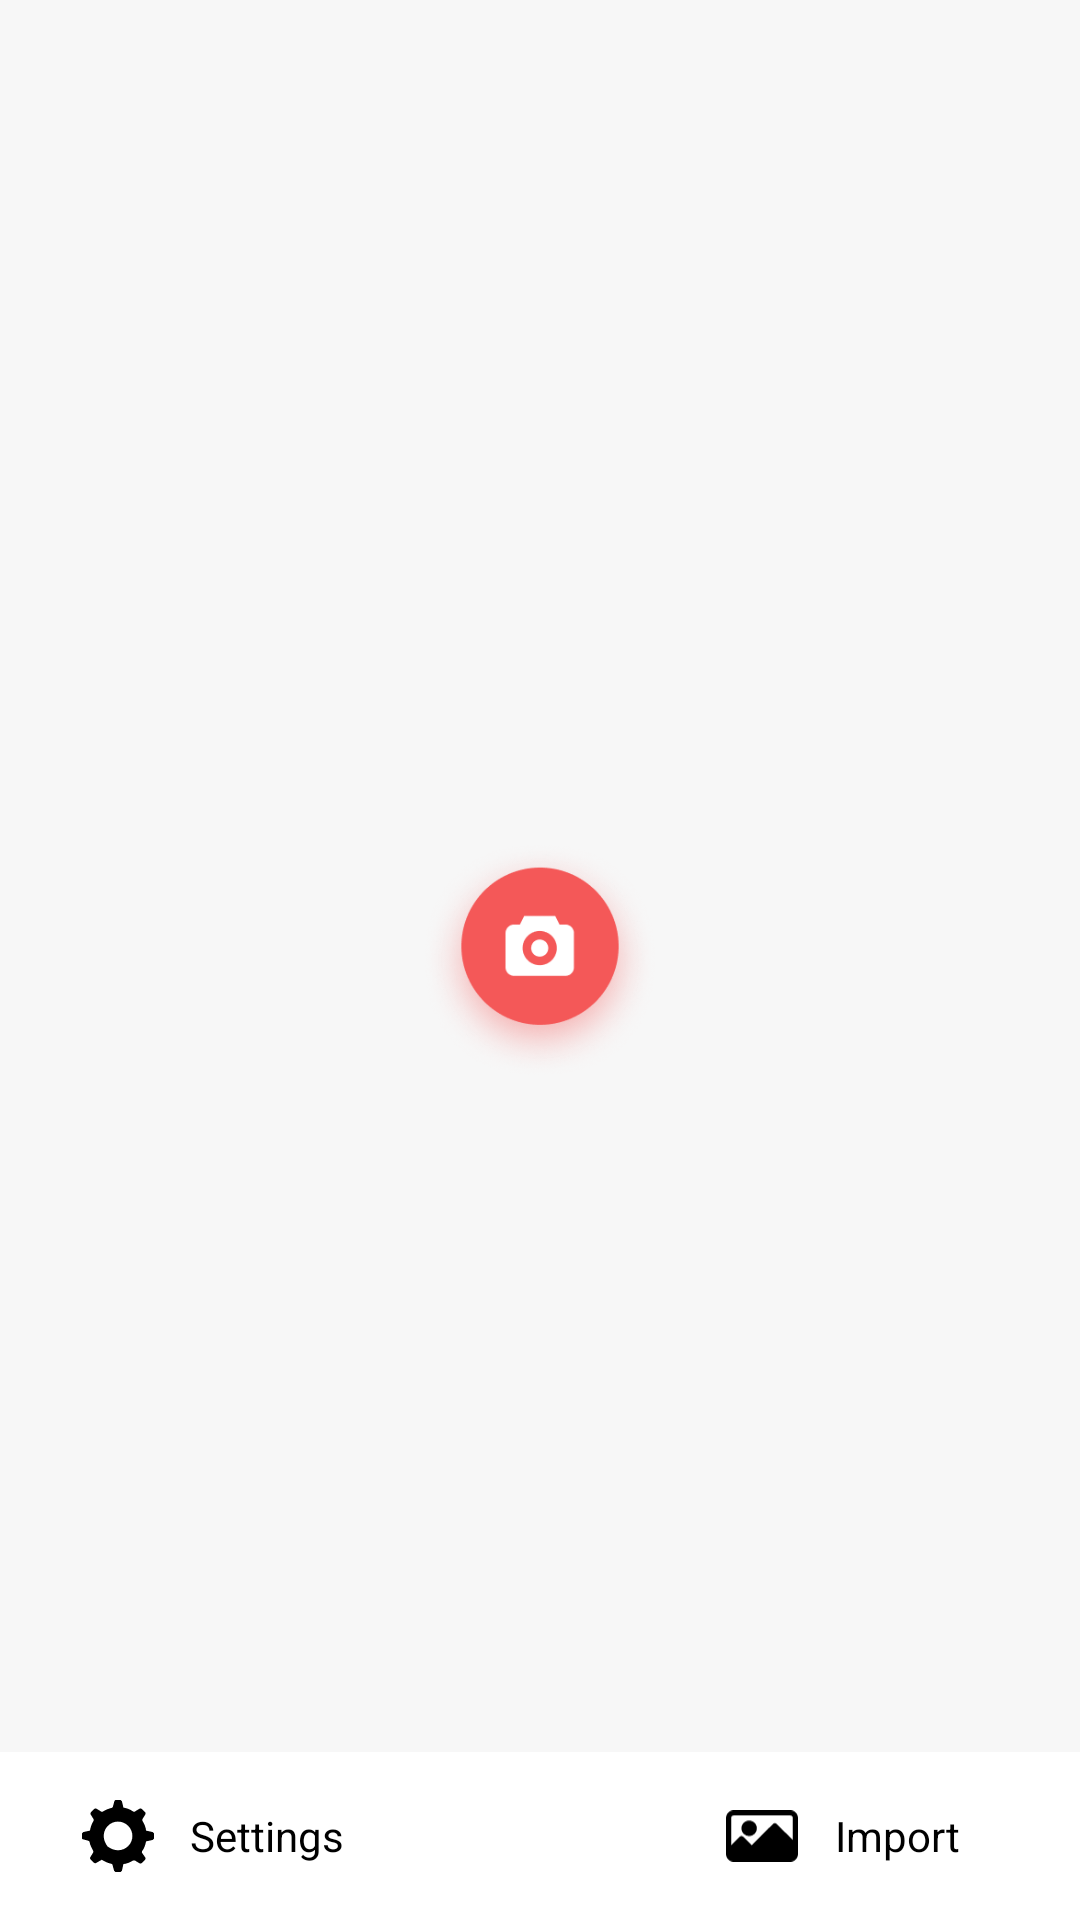

Screen size 1080 x 1920. Icon name, then its box in pixels as (x1, y1, x2, y2):
home select camera status: (455, 867, 625, 1045)
